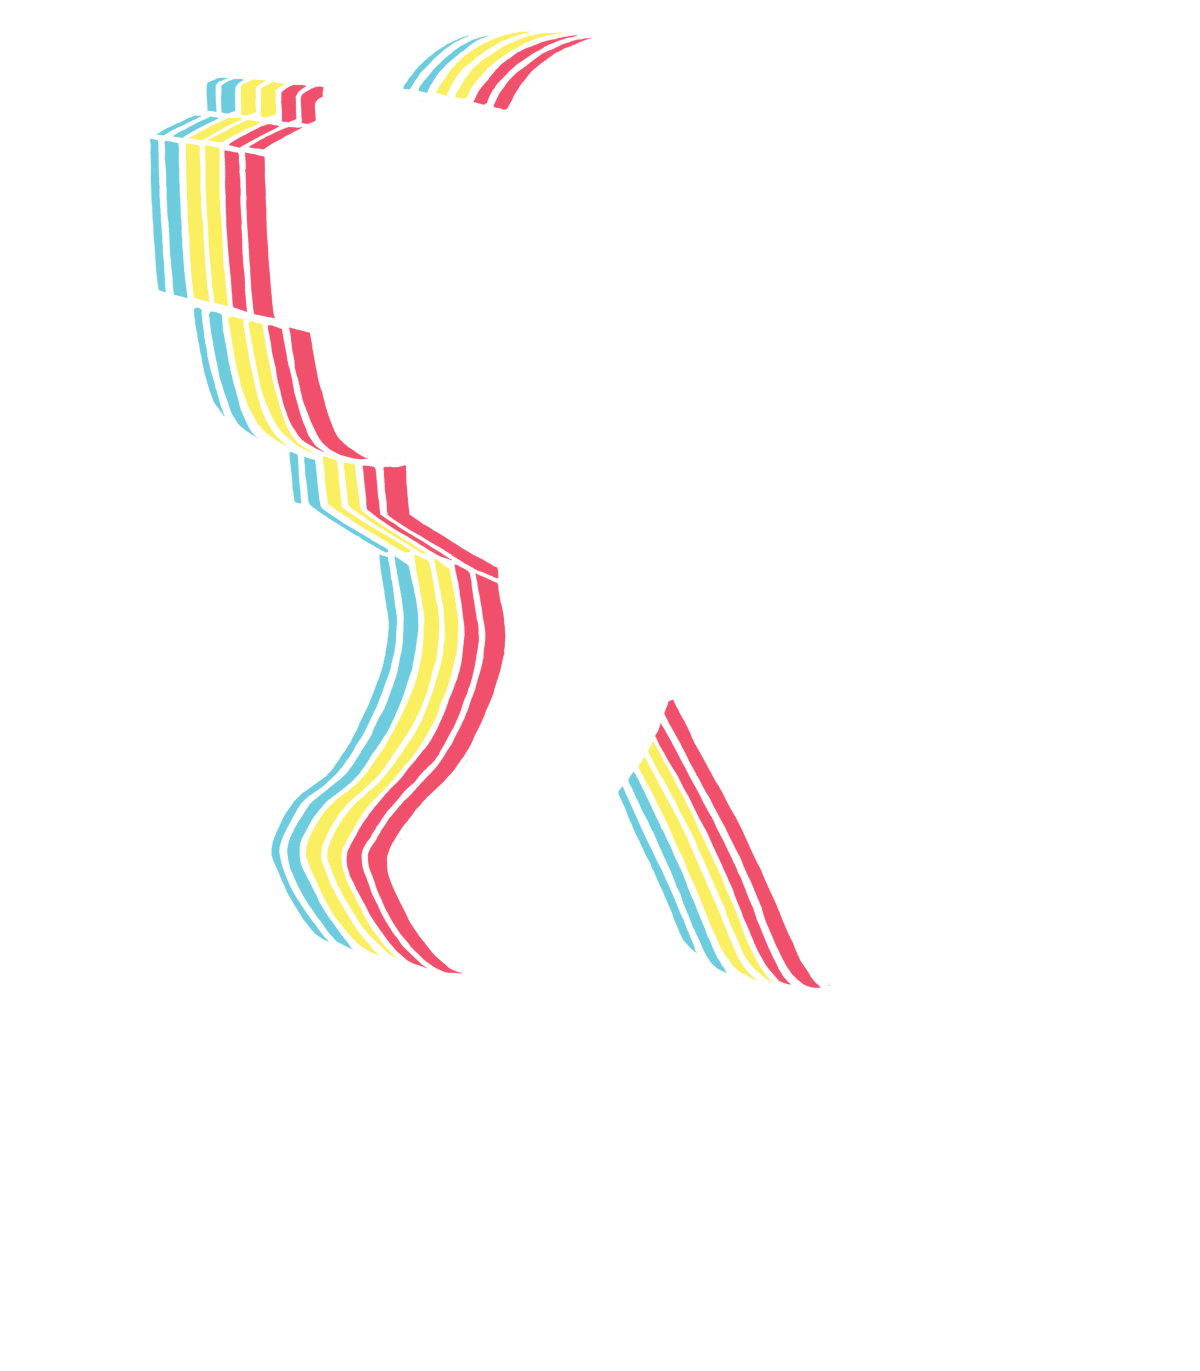design: (132, 28, 1045, 1011)
